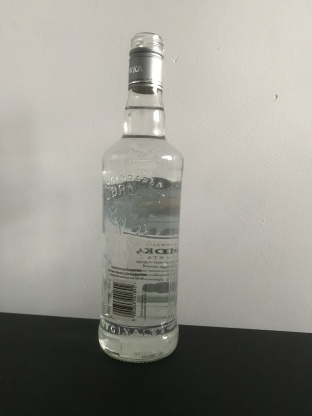nakretka: (126, 31, 166, 95)
